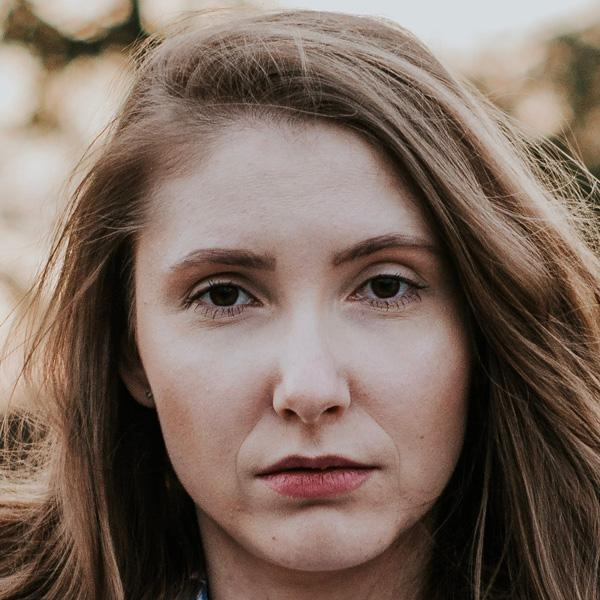Eyes: (335, 252, 441, 318), (172, 265, 277, 329)
